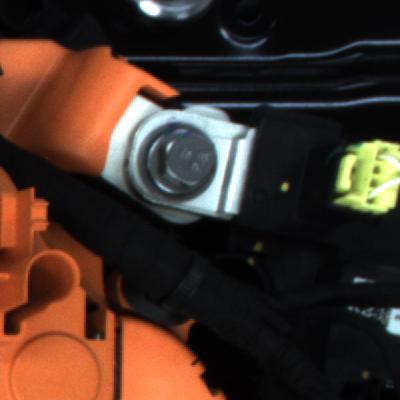nut_b: (133, 125, 230, 202)
